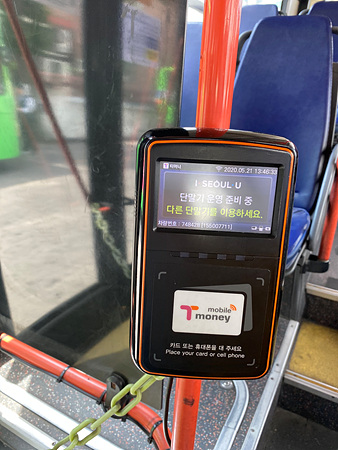terminal: (136, 125, 282, 380)
